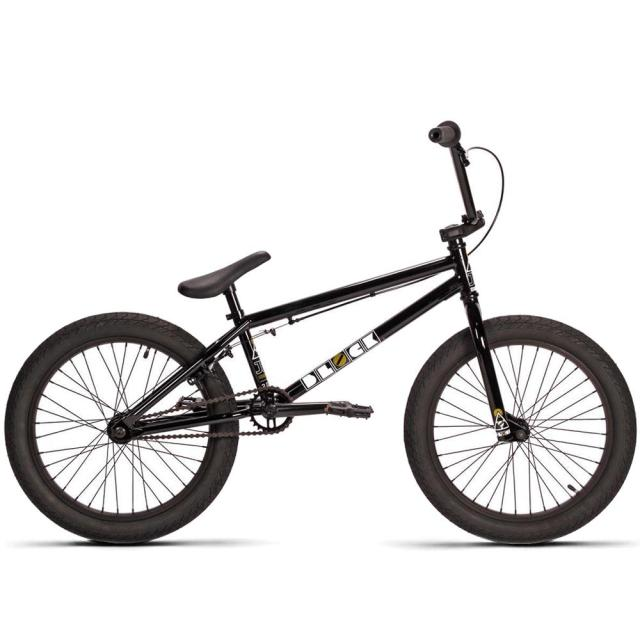bmx-bike: (6, 120, 637, 546)
